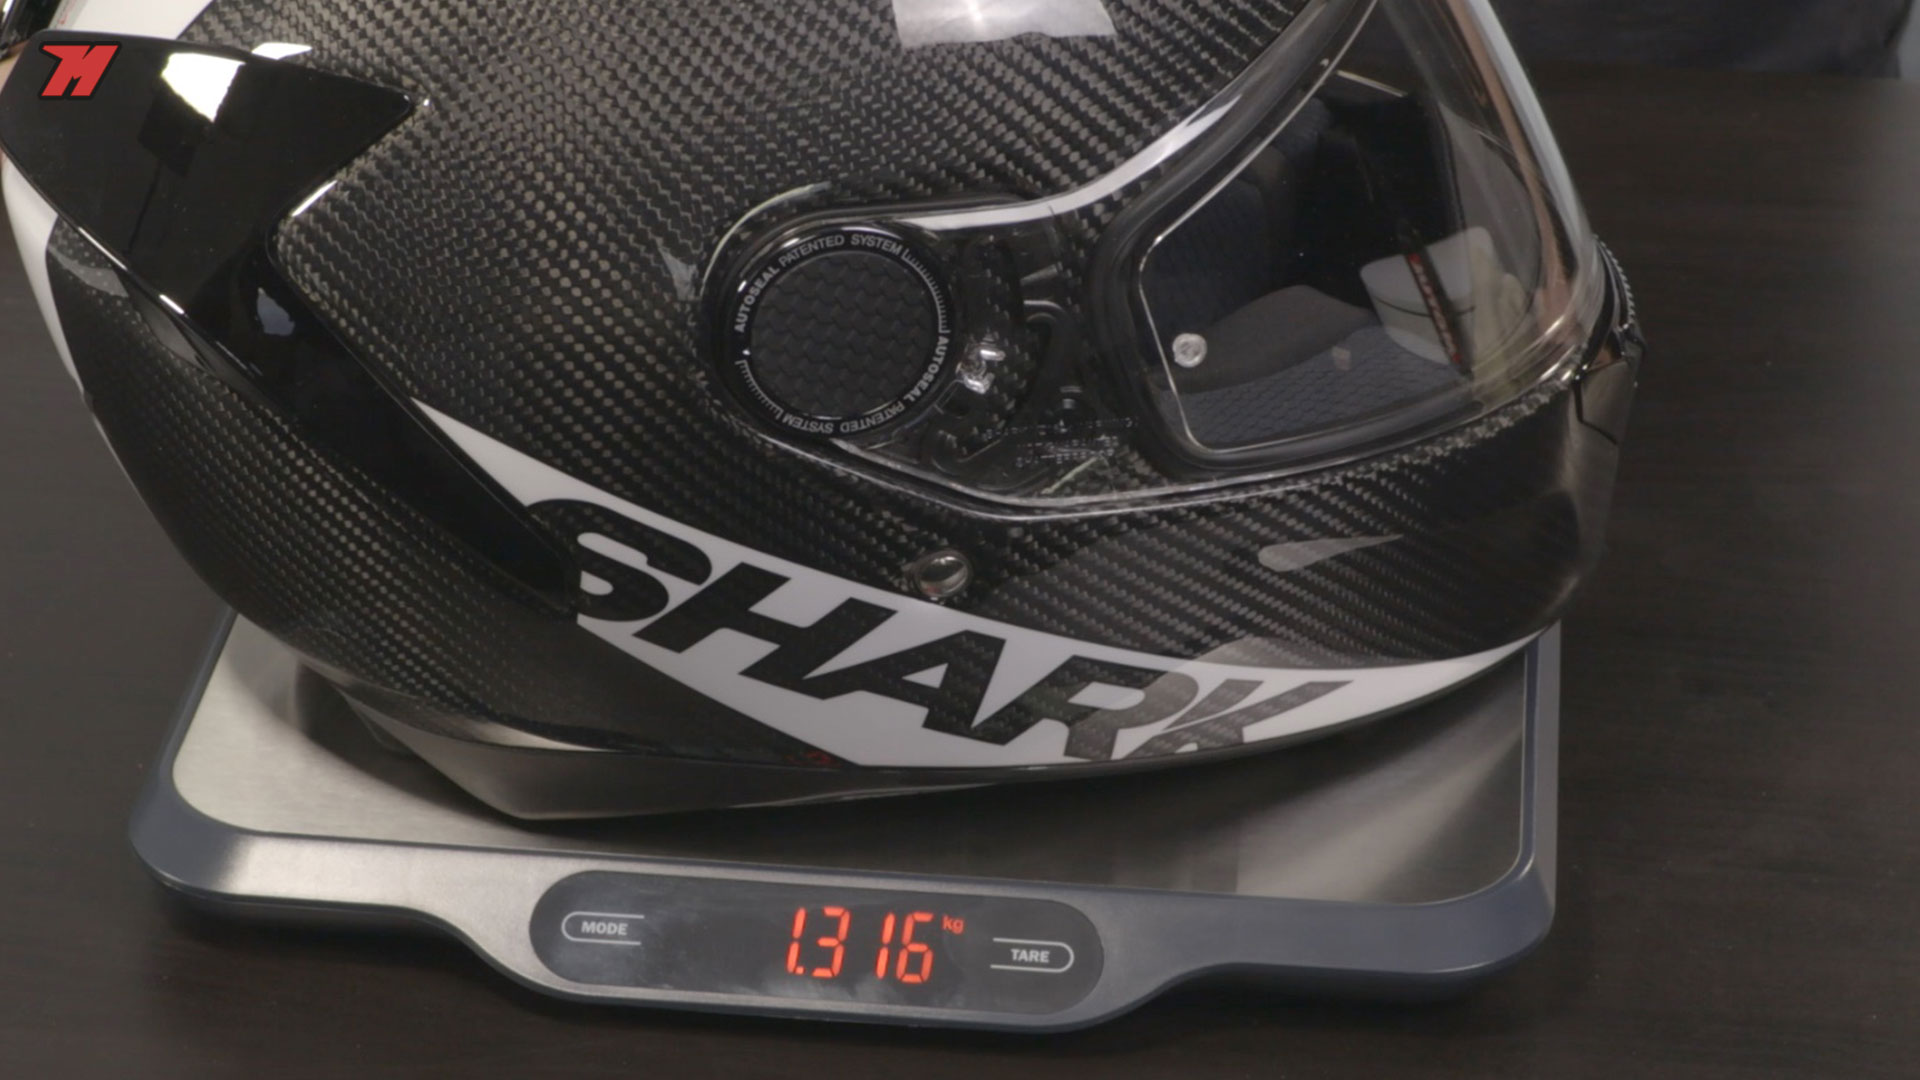with_helmet: (3, 7, 1679, 843)
